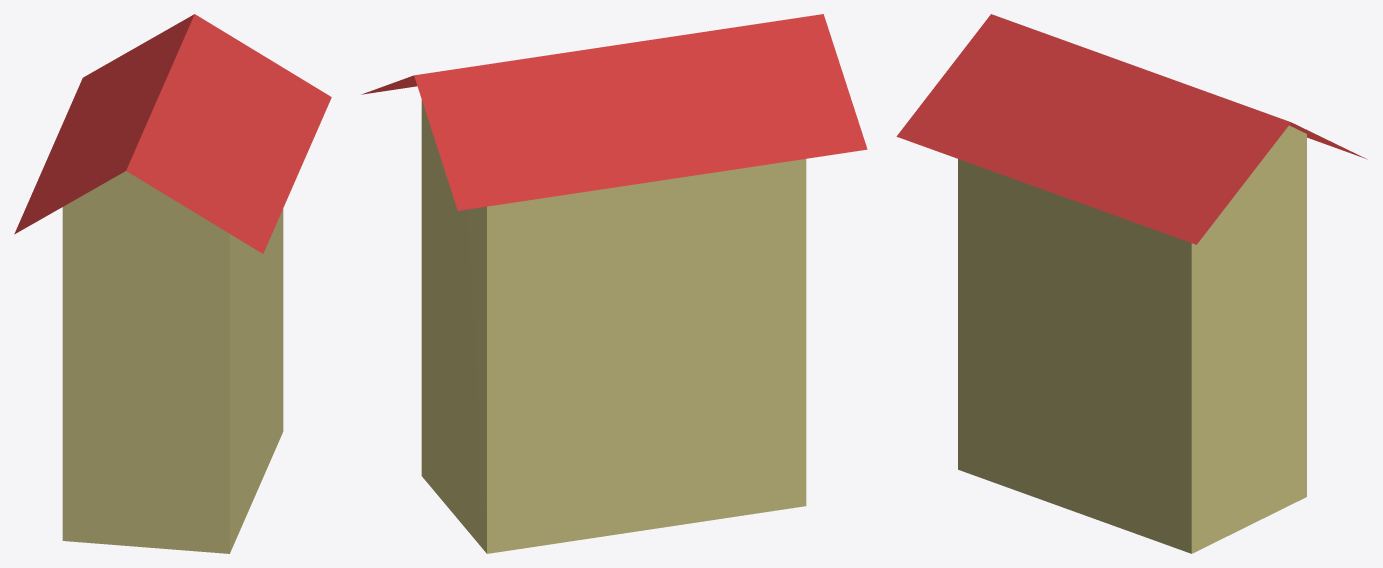
The picture shows the model from 3 angles, left to right: view 1: azimuth 30°, elevation 25°; view 2: azimuth 150°, elevation 25°; view 3: azimuth 270°, elevation 25°; orthographic projection. The views are drawn at different scales.
Size of the model in its own units: 7.87 by 8.12 by 7.8.
